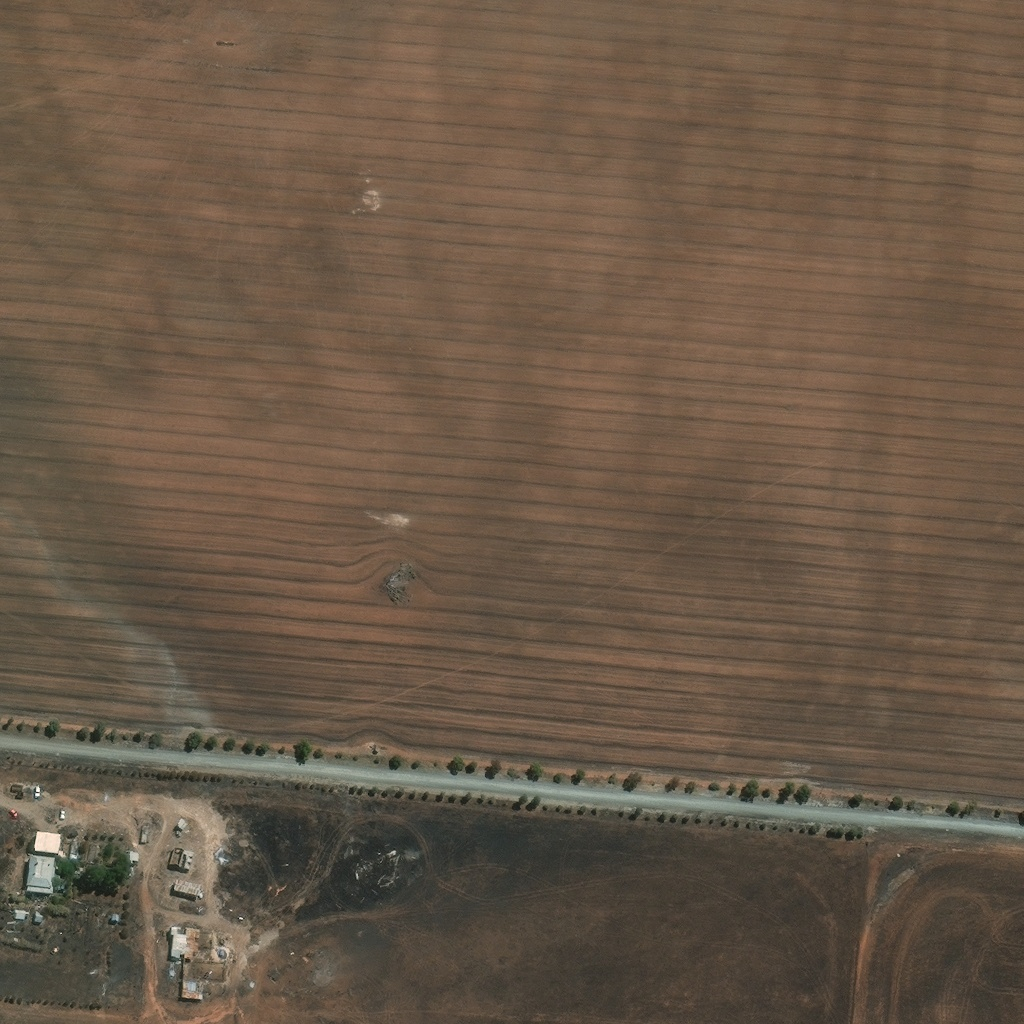0 no-damage: (27, 862, 60, 900), (37, 838, 65, 861), (177, 885, 206, 903), (19, 913, 33, 926), (129, 858, 142, 870), (39, 917, 48, 928), (116, 920, 124, 928), (205, 898, 209, 904)
1 minor-damage: (173, 932, 205, 965), (188, 988, 208, 1006), (179, 824, 193, 838), (93, 851, 103, 870), (145, 836, 154, 850), (182, 838, 187, 843)
3 destroyed: (174, 852, 199, 876)
4 un-classified: (60, 881, 70, 896), (46, 830, 58, 836), (76, 874, 86, 881), (77, 880, 86, 886), (64, 817, 70, 825)
